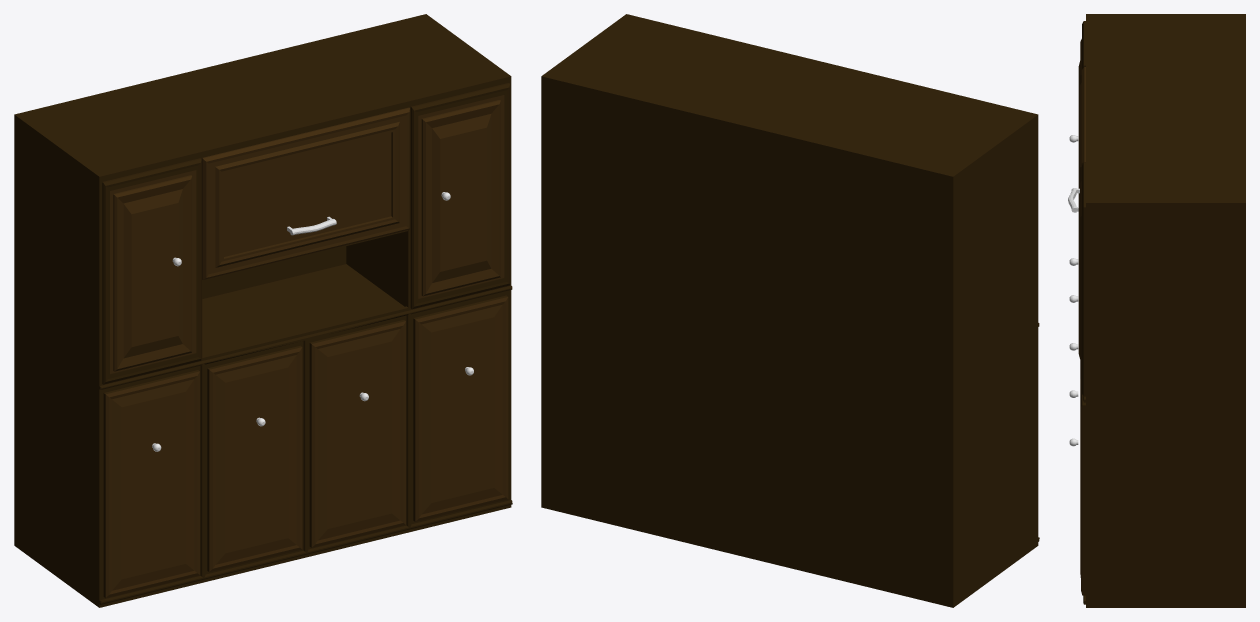
File: shkaf_kn.fbx
3 renders of one model, left to right at view 1: azimuth 30°, elevation 25°; view 2: azimuth 150°, elevation 25°; view 3: azimuth 270°, elevation 25°, orthographic. The views are drawn at different scales.
Visible parts, largest first — view 1: Cube.076; view 2: Cube.076; view 3: Cube.076.
Boxes of the visible parts, <box> form: Cube.076: <box>14,14,512,607</box>; Cube.076: <box>541,14,1039,607</box>; Cube.076: <box>1068,14,1245,607</box>.
Bounding box in the file's own units: 595 × 595 × 237.
